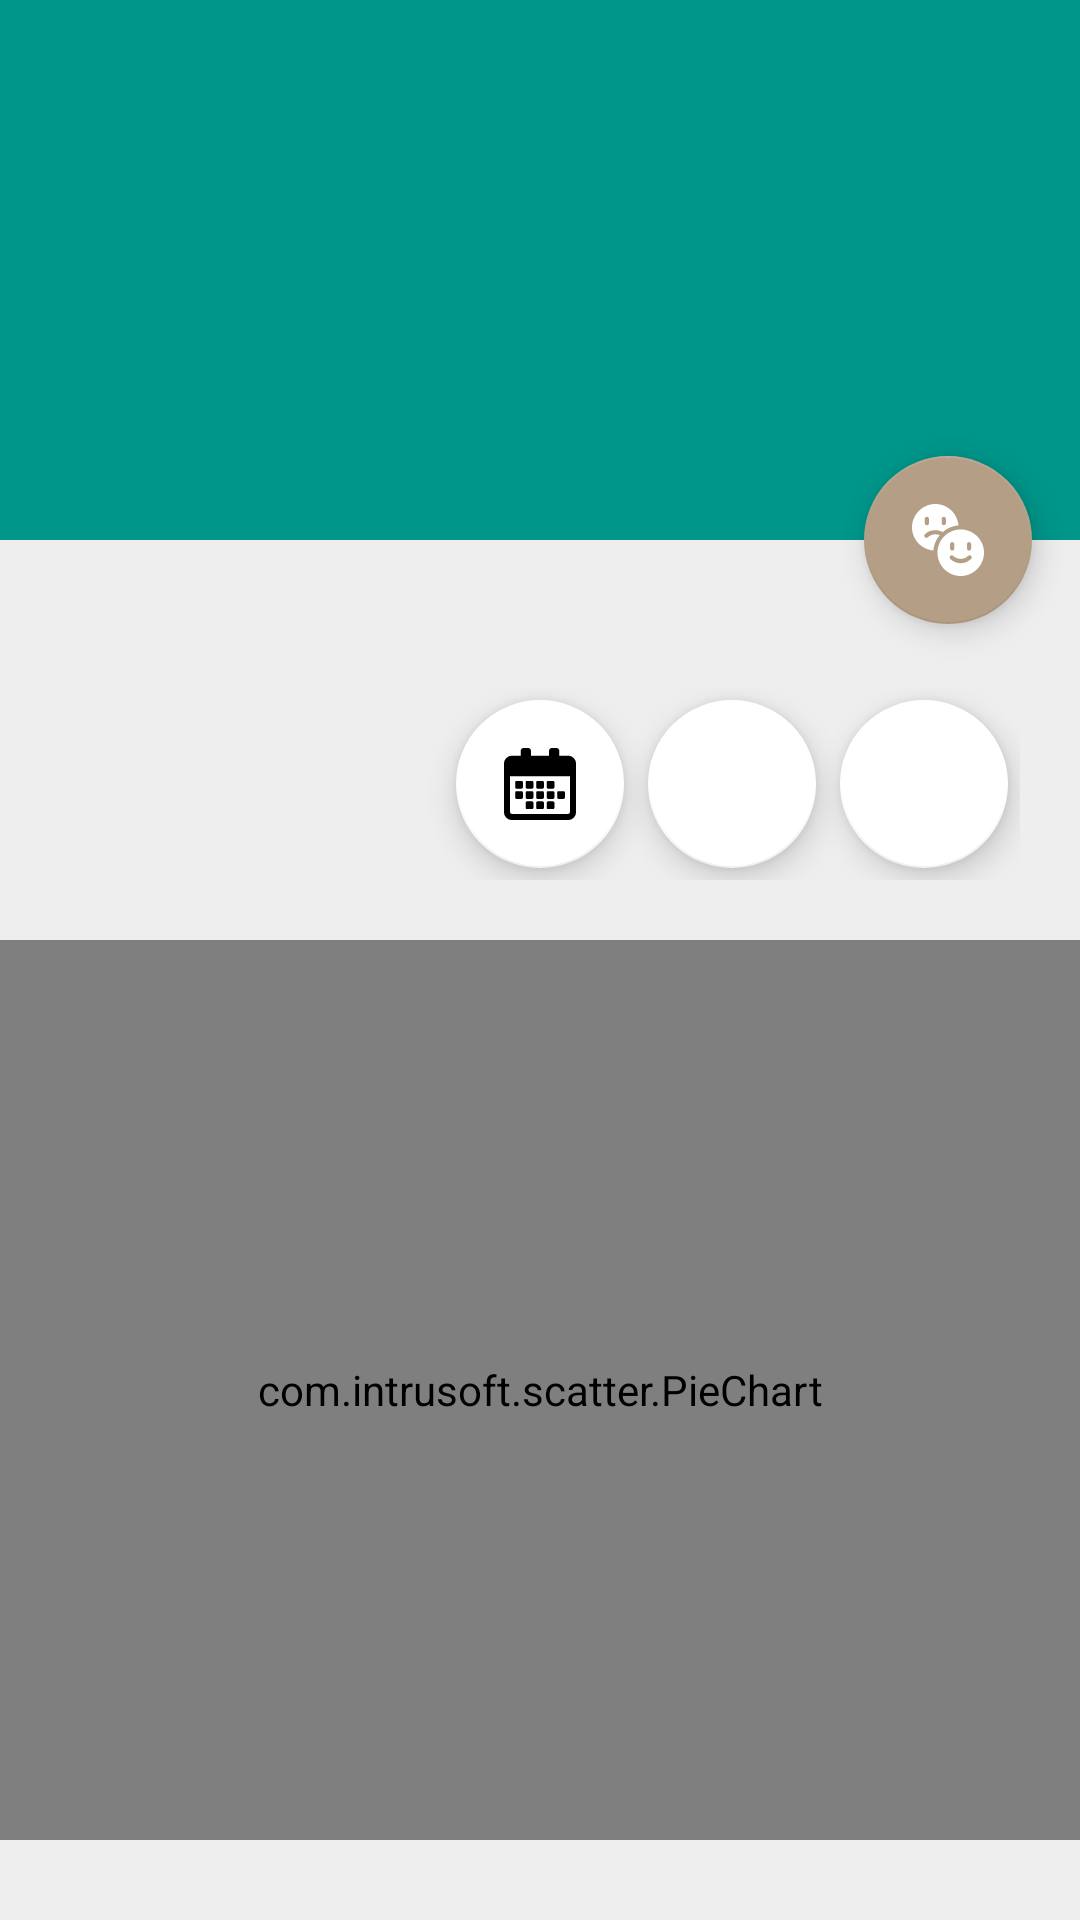

Point at icon controls on the screen. Image size 1080*1920, points as point (x, y).
calendar: point (540, 784)
review: point (948, 540)
